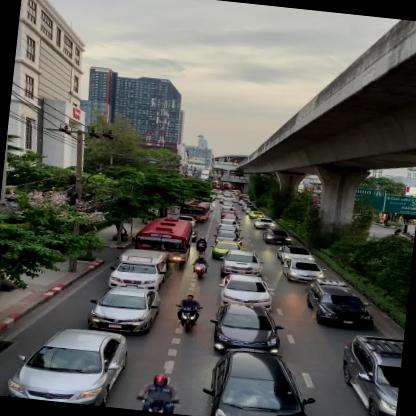bus: (130, 214, 191, 270)
car: (6, 320, 130, 408), (198, 346, 320, 415), (334, 332, 403, 415), (86, 281, 164, 336), (210, 302, 284, 358), (308, 276, 374, 326), (107, 244, 170, 292), (216, 273, 274, 312), (218, 247, 263, 279), (278, 258, 328, 284), (274, 242, 315, 264), (208, 238, 245, 262), (260, 227, 295, 245)
motorcycle: (134, 370, 182, 414), (176, 292, 205, 334), (188, 255, 207, 278), (192, 234, 209, 253)
